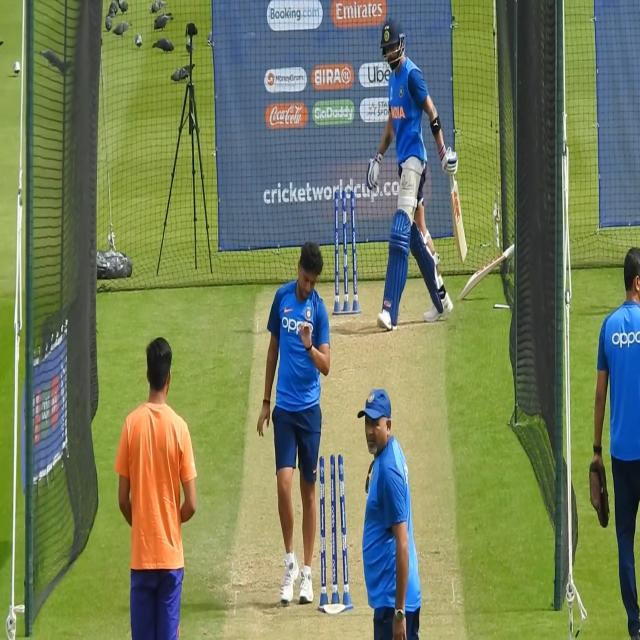stump: (319, 450, 351, 612), (332, 186, 360, 315)
